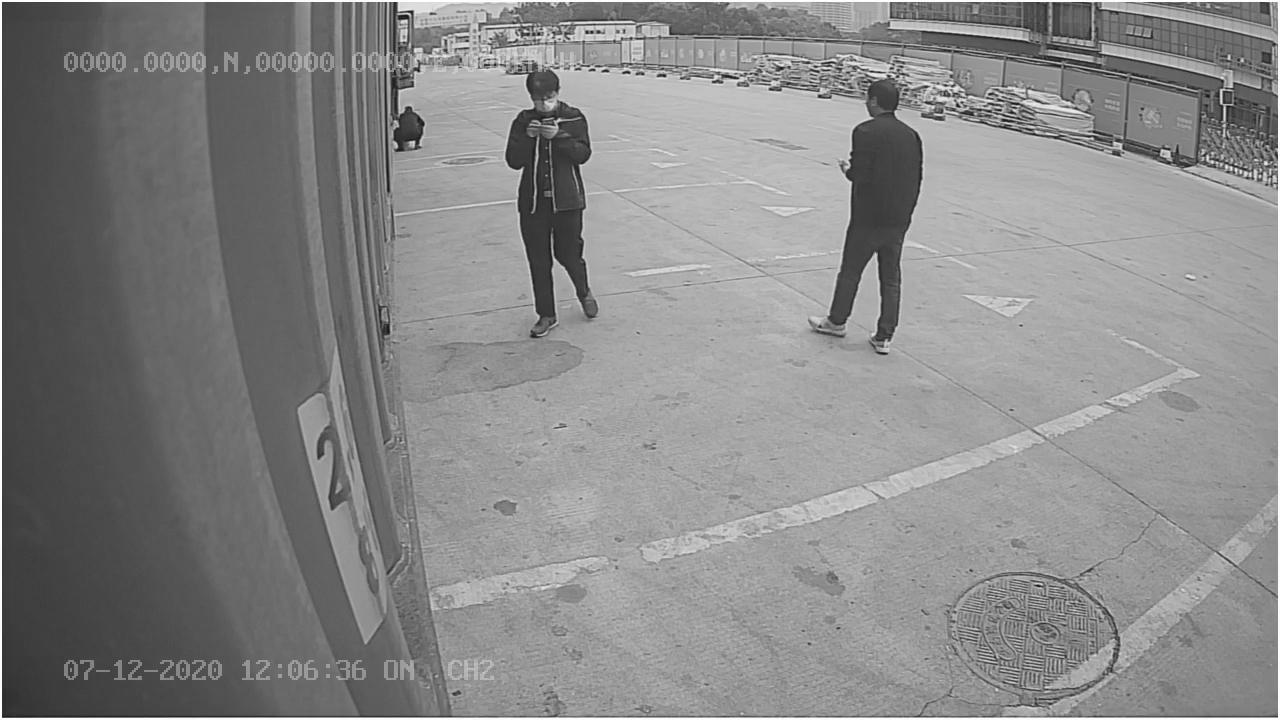person: (806, 77, 925, 356), (498, 66, 602, 338)
